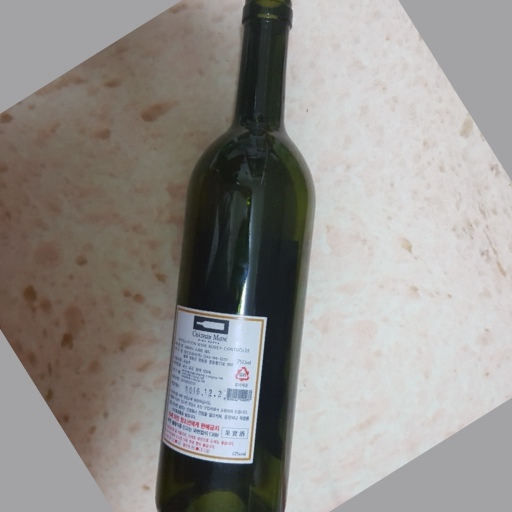Glass_2: (159, 5, 323, 512)
